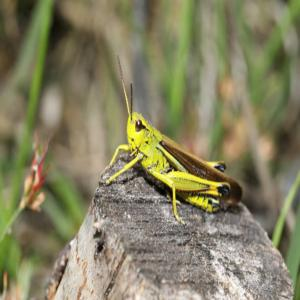locust: (110, 93, 255, 221)
